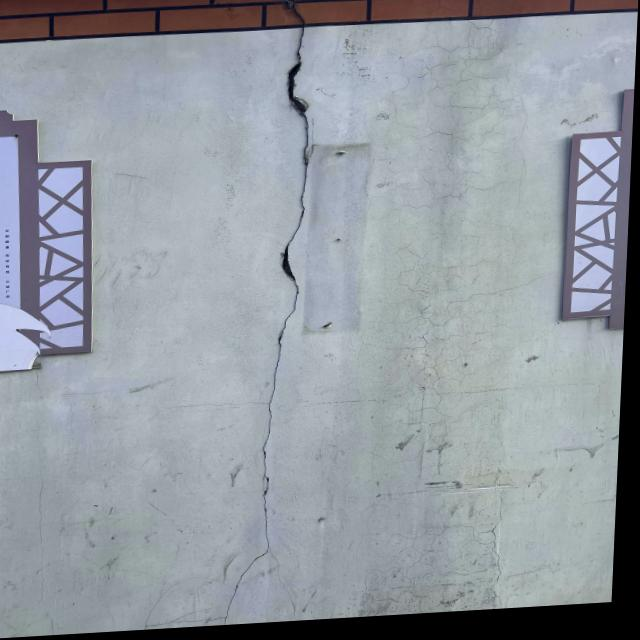crack: (233, 0, 340, 589)
